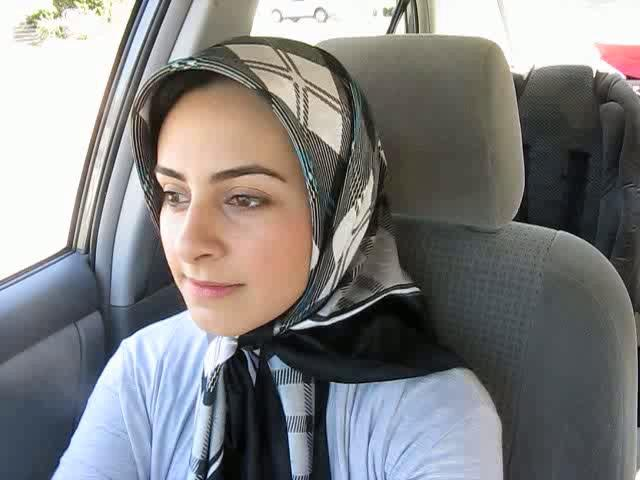no_yawn: (161, 266, 255, 307)
open_eyeL: (154, 180, 197, 216)
open_eyeR: (212, 184, 276, 220)
